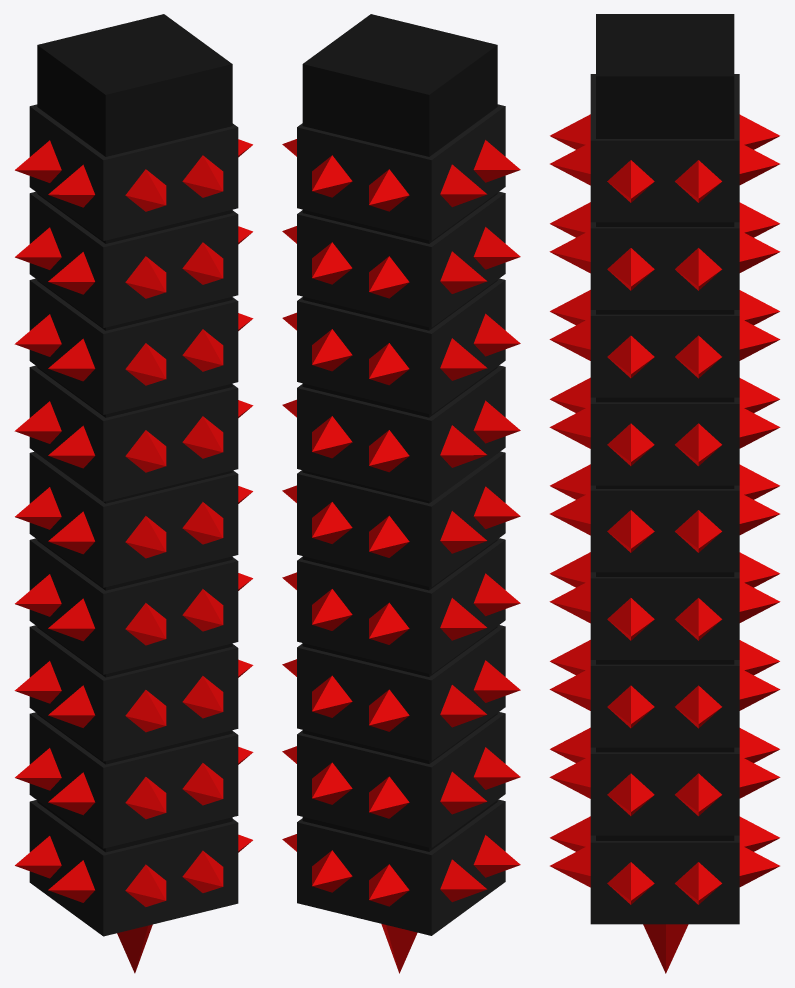
File: Trap-1.fbx
3 views of the same model, side by side, from view 1: azimuth 30°, elevation 25°; view 2: azimuth 150°, elevation 25°; view 3: azimuth 270°, elevation 25° (orthographic).
Parts seen in each view (by area): view 1: pCube12 (×5), pCube11, pCube14, pCube16, pCube13, pCube15, pPyramid35 (×5), pPyramid33 (×5), pPyramid32 (×5), pPyramid34 (×5), pPyramid48, pPyramid47 (+15 smaller); view 2: pCube12 (×5), pCube11, pCube13, pCube14, pCube16, pCube15, pPyramid34 (×5), pPyramid33 (×5), pPyramid32 (×5), pPyramid35 (×5), pPyramid49, pPyramid44 (+15 smaller); view 3: pCube12 (×5), pCube11, pCube16, pCube15, pCube14, pCube13, pPyramid32 (×5), pPyramid33 (×5), pPyramid35 (×5), pPyramid34 (×5), pPyramid42, pPyramid38 (+15 smaller).
Boxes of the visible parts, box(x1,y1,x2,y2) form: pCube12 (×5): box(29, 104, 238, 936); pCube11: box(37, 14, 232, 852); pCube14: box(29, 191, 238, 327); pCube16: box(29, 365, 238, 501); pCube13: box(29, 538, 238, 674); pCube15: box(29, 278, 238, 414); pPyramid35 (×5): box(48, 139, 253, 902); pPyramid33 (×5): box(125, 169, 166, 906); pPyramid32 (×5): box(182, 155, 223, 892); pPyramid34 (×5): box(14, 140, 61, 878); pPyramid48: box(48, 400, 253, 468); pPyramid47: box(48, 313, 253, 381); pCube12 (×5): box(297, 104, 505, 935); pCube11: box(302, 14, 497, 851); pCube13: box(297, 538, 505, 674); pCube14: box(297, 191, 505, 327); pCube16: box(297, 365, 505, 501); pCube15: box(297, 278, 505, 414); pPyramid34 (×5): box(282, 139, 487, 902); pPyramid33 (×5): box(369, 169, 409, 906); pPyramid32 (×5): box(312, 155, 352, 892); pPyramid35 (×5): box(473, 140, 520, 877); pPyramid49: box(282, 399, 487, 467); pPyramid44: box(282, 312, 487, 380); pCube12 (×5): box(590, 74, 739, 924); pCube11: box(596, 14, 734, 840); pCube16: box(590, 397, 739, 485); pCube15: box(590, 310, 739, 397); pCube14: box(590, 222, 739, 309); pCube13: box(590, 572, 739, 659); pPyramid32 (×5): box(549, 142, 780, 887); pPyramid33 (×5): box(550, 114, 779, 851); pPyramid35 (×5): box(607, 160, 654, 904); pPyramid34 (×5): box(675, 160, 721, 904); pPyramid42: box(549, 230, 780, 273); pPyramid38: box(549, 580, 780, 623).
Size of the model in its own units: 4.17 by 17.84 by 4.02.
